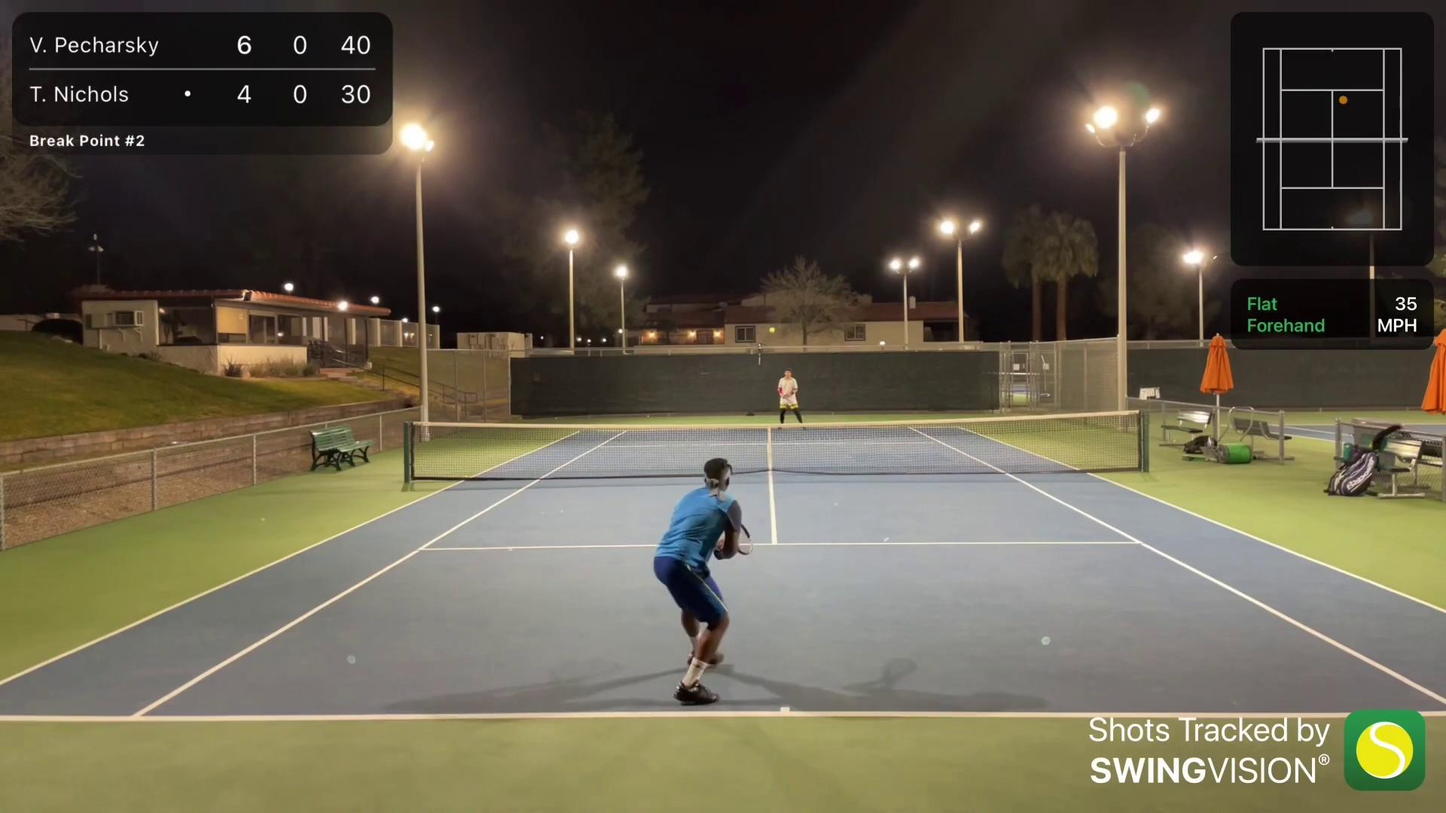ball: (768, 327, 775, 334)
